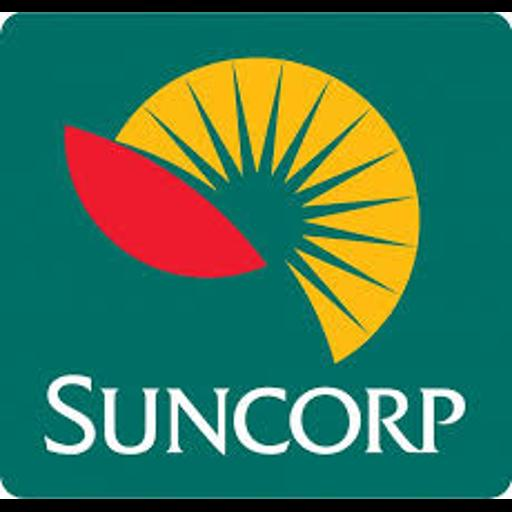Suncorp Group: (0, 12, 512, 499)
